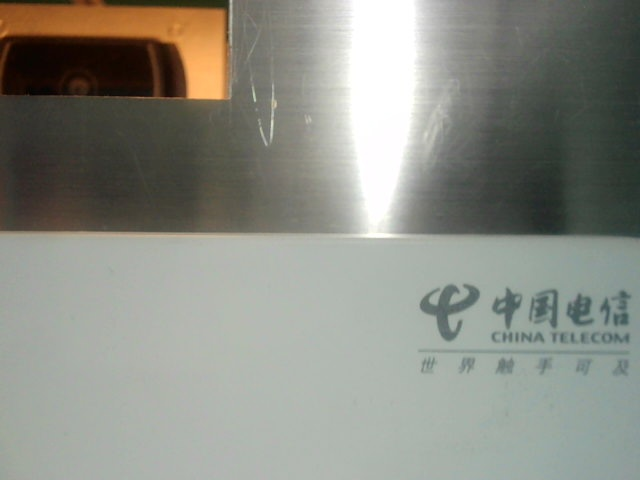AB_ChinaTelecom: (407, 268, 638, 383)
